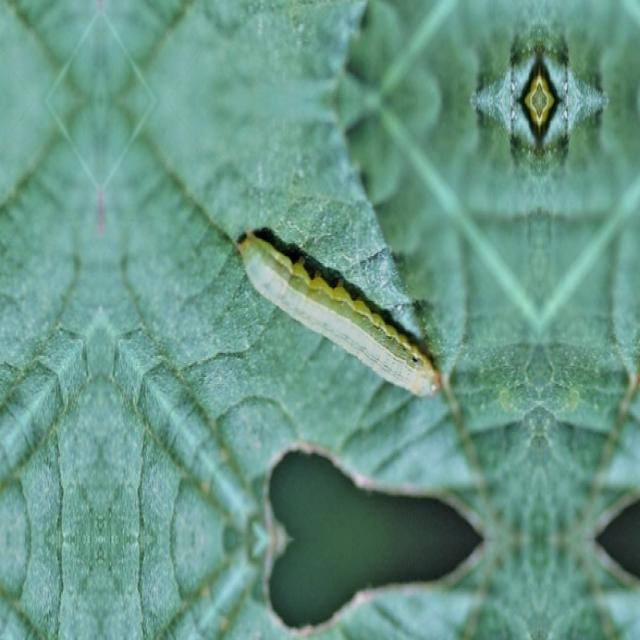armyworm: (235, 223, 441, 400)
